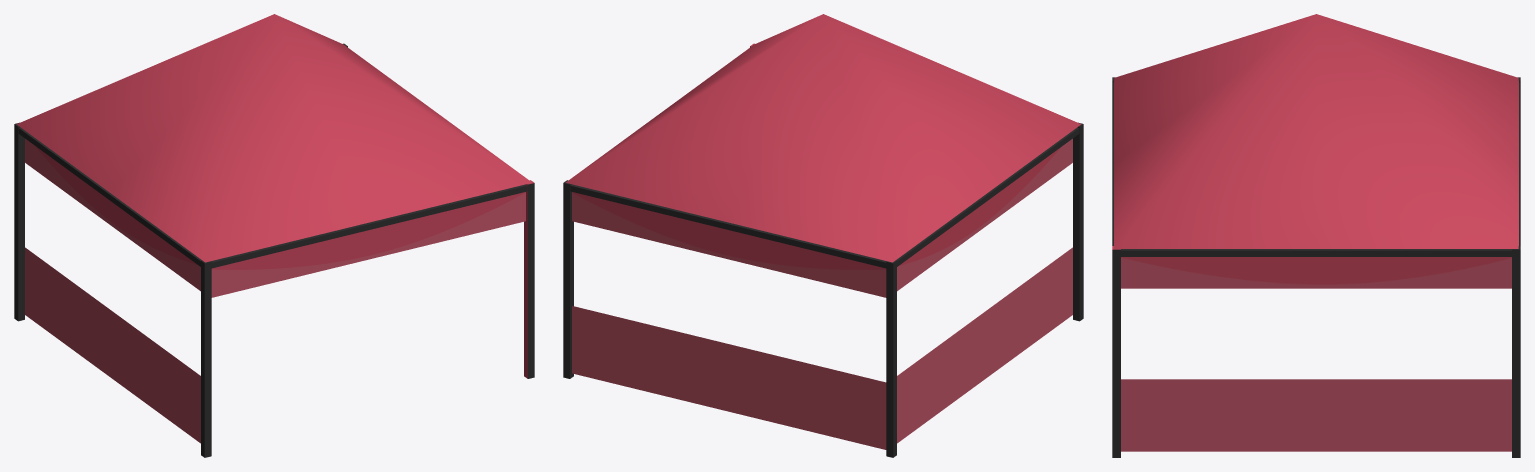
The model's file is scene_3fNabPVE5A.glb.
3 renders of one model, left to right at view 1: azimuth 30°, elevation 25°; view 2: azimuth 150°, elevation 25°; view 3: azimuth 270°, elevation 25°, orthographic. The views are drawn at different scales.
Parts seen in each view (by area): view 1: Canpoy_2; view 2: Canpoy_2; view 3: Canpoy_2.
Boxes of the visible parts, bbox=[...] form: Canpoy_2: bbox=[14, 14, 534, 457]; Canpoy_2: bbox=[563, 14, 1083, 457]; Canpoy_2: bbox=[1112, 14, 1520, 457].
Bounding box in the file's own units: 817 × 790 × 817.
Materials: 1 (1 with a texture image).
